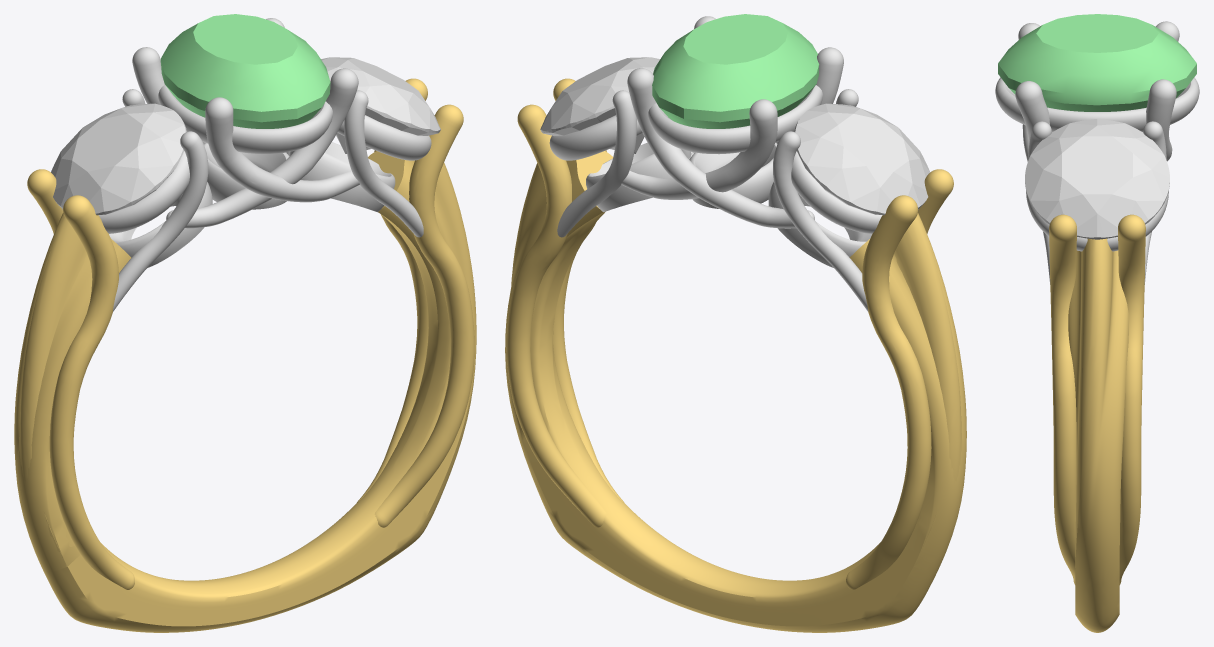
The model's file is BlaineV2eng_blender.glb.
3 renders of one model, left to right at view 1: azimuth 30°, elevation 25°; view 2: azimuth 150°, elevation 25°; view 3: azimuth 270°, elevation 25°, orthographic. The views are drawn at different scales.
Parts seen in each view (by area): view 1: V2 Blaine YG for 3d model, V2 Blaine PT for 3d model, Blaine garnet for 3d model, Blaine dia for 3d model.001, Blaine dia for 3d model; view 2: V2 Blaine YG for 3d model, V2 Blaine PT for 3d model, Blaine garnet for 3d model, Blaine dia for 3d model.001, Blaine dia for 3d model; view 3: V2 Blaine YG for 3d model, Blaine garnet for 3d model, Blaine dia for 3d model, V2 Blaine PT for 3d model.
Boxes of the visible parts, x1,y1,x2,y2 form: V2 Blaine YG for 3d model: (14, 78, 476, 632); V2 Blaine PT for 3d model: (62, 18, 431, 311); Blaine garnet for 3d model: (160, 14, 330, 128); Blaine dia for 3d model.001: (51, 103, 186, 215); Blaine dia for 3d model: (321, 57, 440, 153); V2 Blaine YG for 3d model: (505, 78, 966, 632); V2 Blaine PT for 3d model: (549, 16, 918, 311); Blaine garnet for 3d model: (652, 14, 819, 128); Blaine dia for 3d model.001: (794, 103, 930, 215); Blaine dia for 3d model: (540, 57, 660, 153); V2 Blaine YG for 3d model: (1049, 214, 1145, 632); Blaine garnet for 3d model: (998, 14, 1196, 111); Blaine dia for 3d model: (1025, 119, 1169, 239); V2 Blaine PT for 3d model: (995, 21, 1199, 284).
Bounding box in the file's own units: 20.5 × 25.08 × 8.3.
